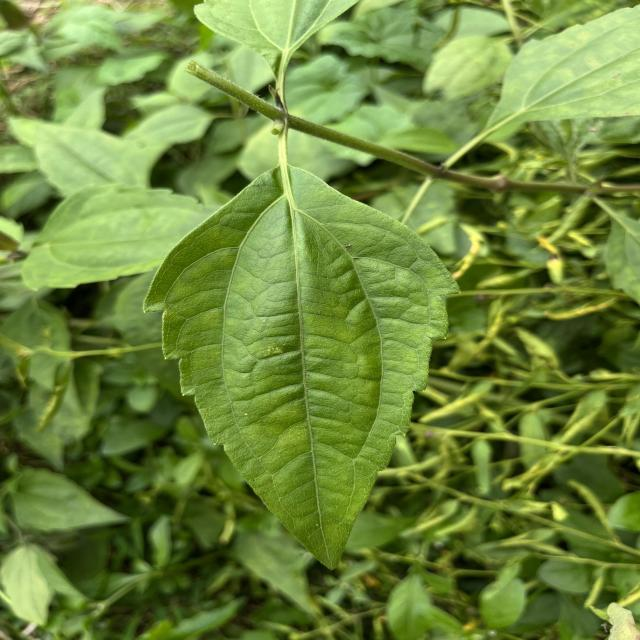Chromolaena odorata: (133, 154, 470, 576)
